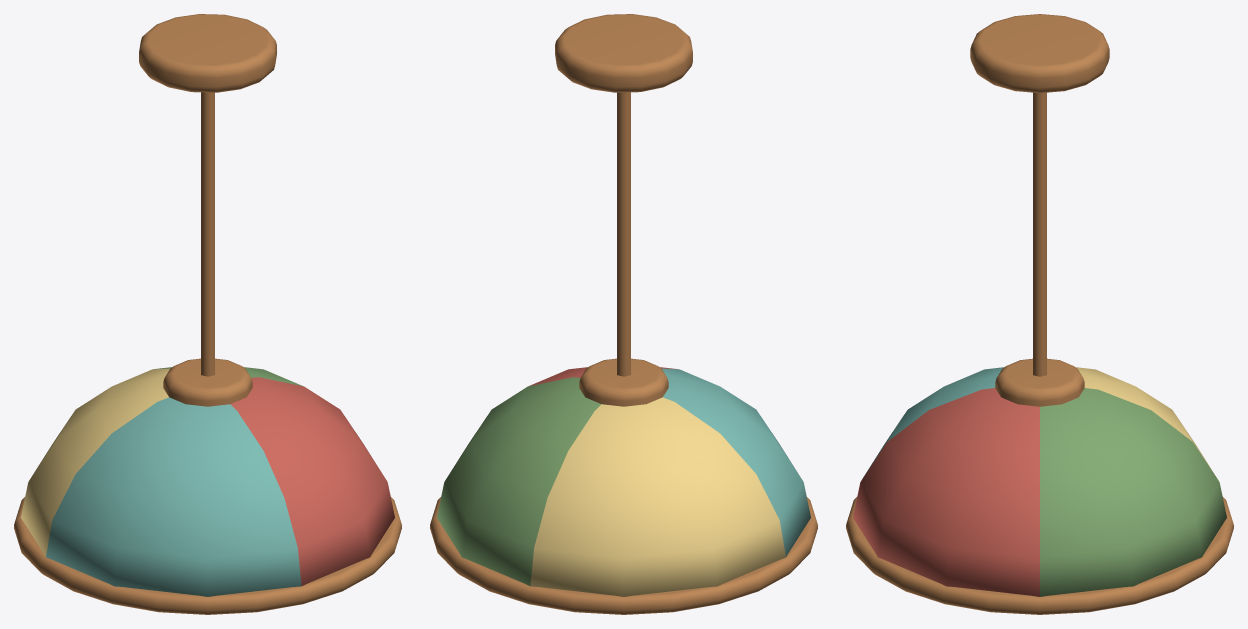
Rendered from stained_glass_pendant.glb.
The picture shows the model from 3 angles, left to right: view 1: azimuth 30°, elevation 25°; view 2: azimuth 150°, elevation 25°; view 3: azimuth 270°, elevation 25°; orthographic projection.
Visible parts, largest first — view 1: stained_glass_pendant_mesh; view 2: stained_glass_pendant_mesh; view 3: stained_glass_pendant_mesh.
Part boxes in pixels (left/top/right/bottom): stained_glass_pendant_mesh: left=14, top=14, right=401, bottom=614; stained_glass_pendant_mesh: left=430, top=14, right=817, bottom=614; stained_glass_pendant_mesh: left=846, top=14, right=1233, bottom=614.
Size of the model in its own units: 0.39 by 0.55 by 0.39.
